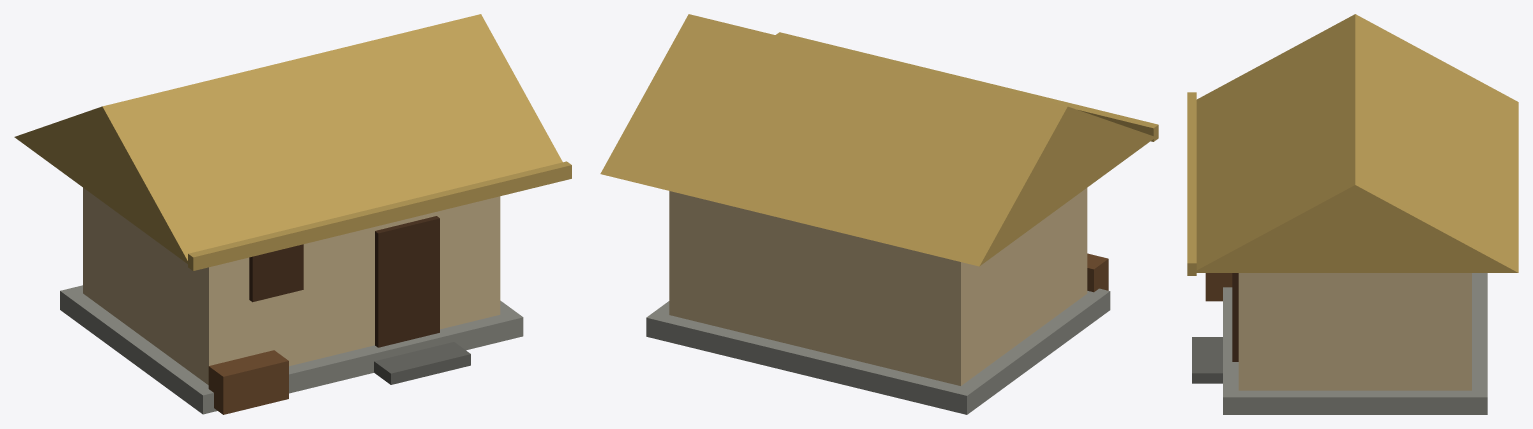
File: prop_choga.obj
3 views of the same model, side by side, from view 1: azimuth 30°, elevation 25°; view 2: azimuth 150°, elevation 25°; view 3: azimuth 270°, elevation 25° (orthographic). The views are drawn at different scales.
Visible parts, largest first — view 1: prop_choga_0_2, prop_choga_0_1, prop_choga_0_0, prop_choga_0_3, prop_choga_0_5, prop_choga_0_4; view 2: prop_choga_0_2, prop_choga_0_1, prop_choga_0_0, prop_choga_0_5; view 3: prop_choga_0_2, prop_choga_0_1, prop_choga_0_0, prop_choga_0_4, prop_choga_0_5, prop_choga_0_3.
Boxes of the visible parts, bbox=[...] form: prop_choga_0_2: bbox=[14, 14, 571, 270]; prop_choga_0_1: bbox=[83, 188, 500, 384]; prop_choga_0_0: bbox=[60, 285, 523, 414]; prop_choga_0_3: bbox=[249, 216, 439, 347]; prop_choga_0_5: bbox=[208, 350, 288, 414]; prop_choga_0_4: bbox=[374, 342, 470, 384]; prop_choga_0_2: bbox=[600, 14, 1158, 266]; prop_choga_0_1: bbox=[669, 188, 1087, 385]; prop_choga_0_0: bbox=[646, 288, 1110, 414]; prop_choga_0_5: bbox=[1087, 253, 1108, 292]; prop_choga_0_2: bbox=[1187, 14, 1518, 275]; prop_choga_0_1: bbox=[1238, 273, 1471, 390]; prop_choga_0_0: bbox=[1223, 273, 1487, 414]; prop_choga_0_4: bbox=[1192, 337, 1222, 383]; prop_choga_0_5: bbox=[1205, 273, 1232, 301]; prop_choga_0_3: bbox=[1232, 273, 1238, 361].
Bounding box in the file's own units: 5.2 × 3.45 × 4.26.
